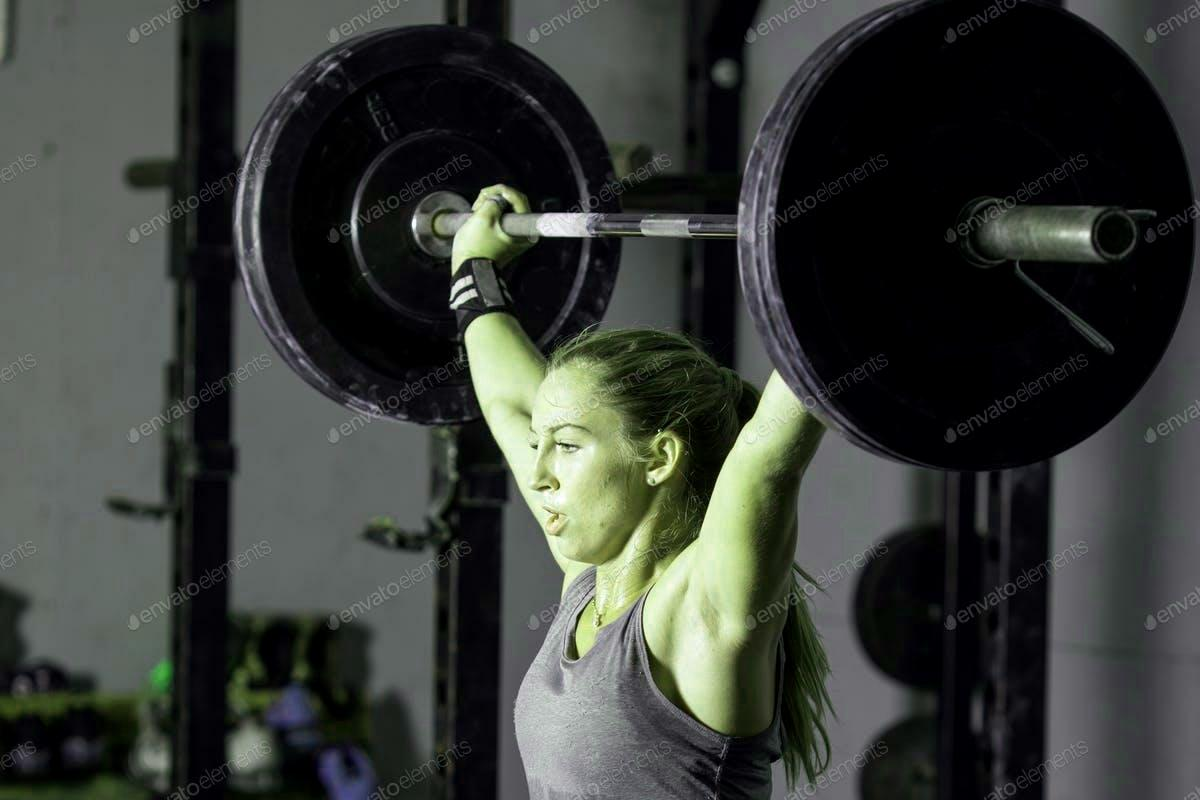Barbell: (1083, 200, 1143, 270)
